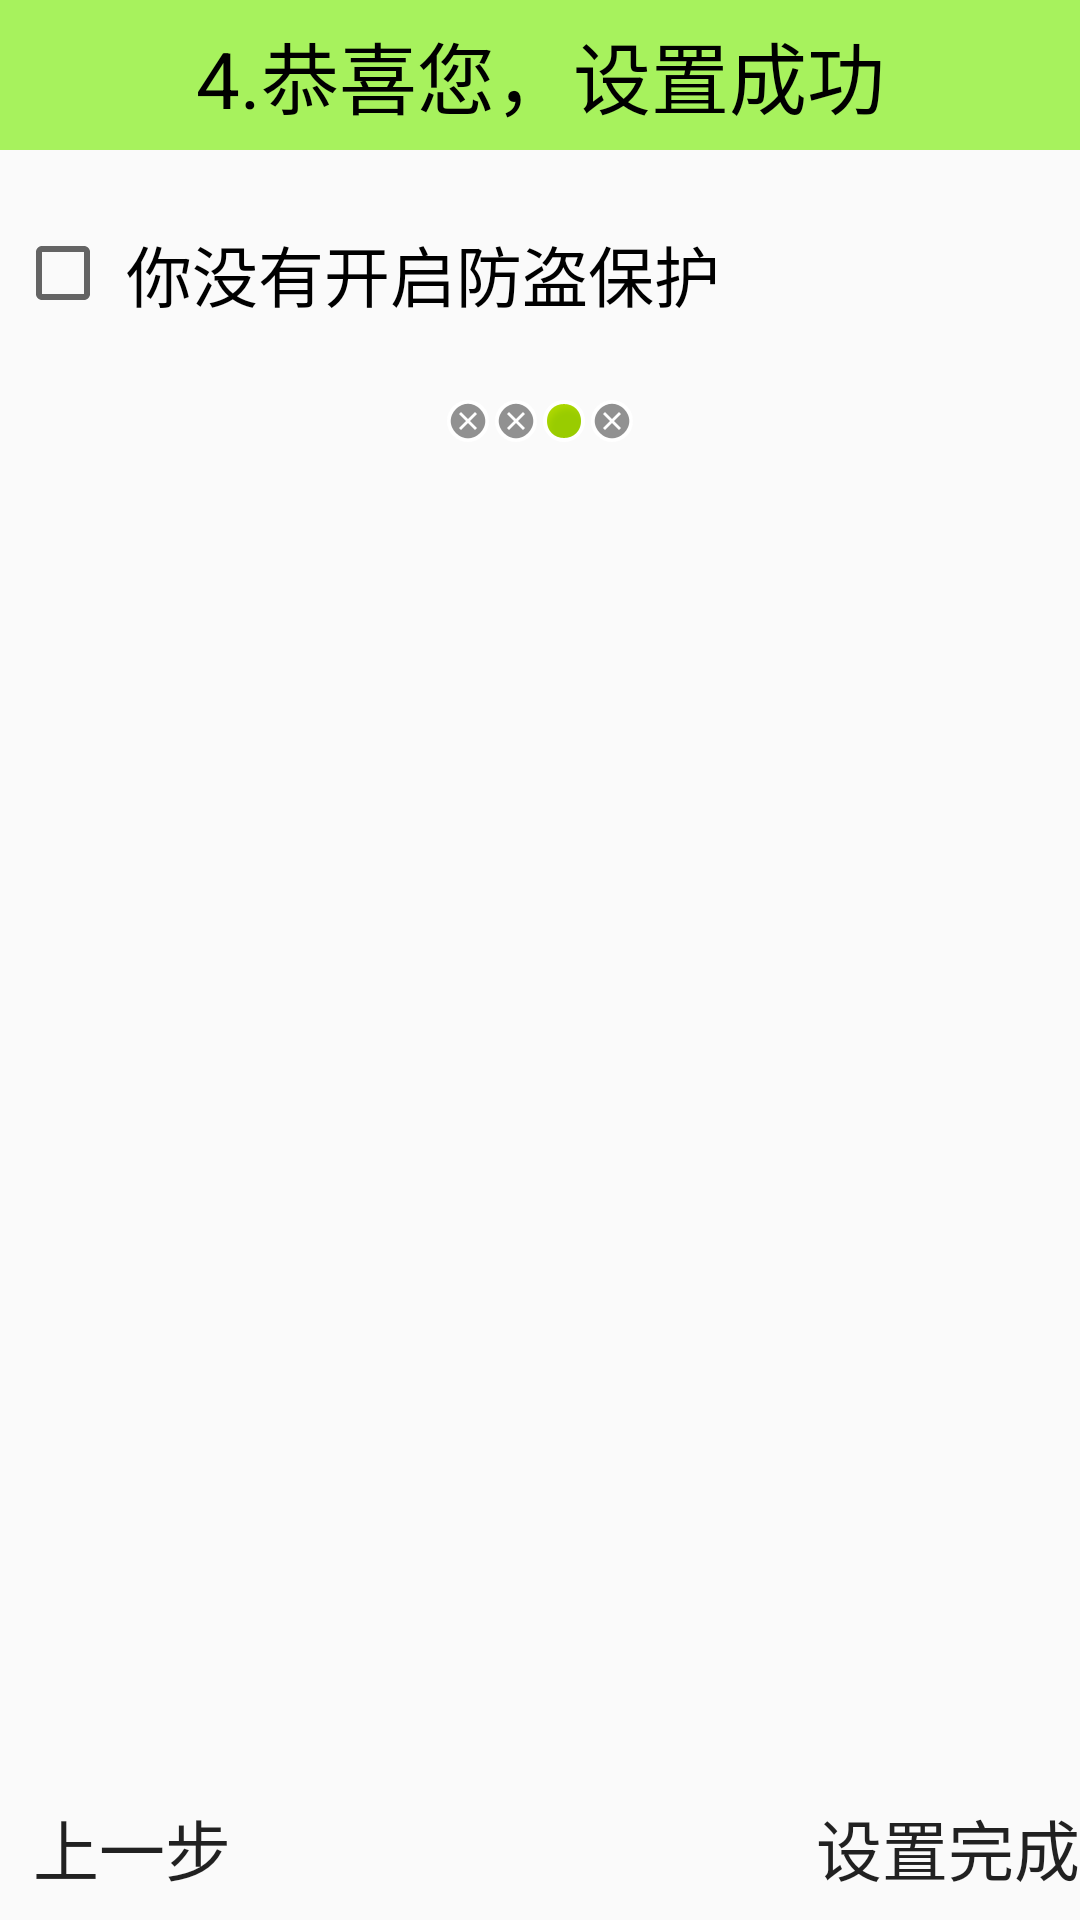

Where icons sit on this 1080*1920 app screen, as (x1, y1, x2, y2):
presence offline: (451, 404, 485, 439), (499, 404, 533, 439), (595, 404, 629, 439)
presence online: (547, 404, 581, 438)
